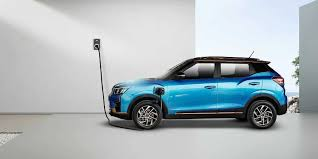XUV 400: (105, 51, 289, 131)
